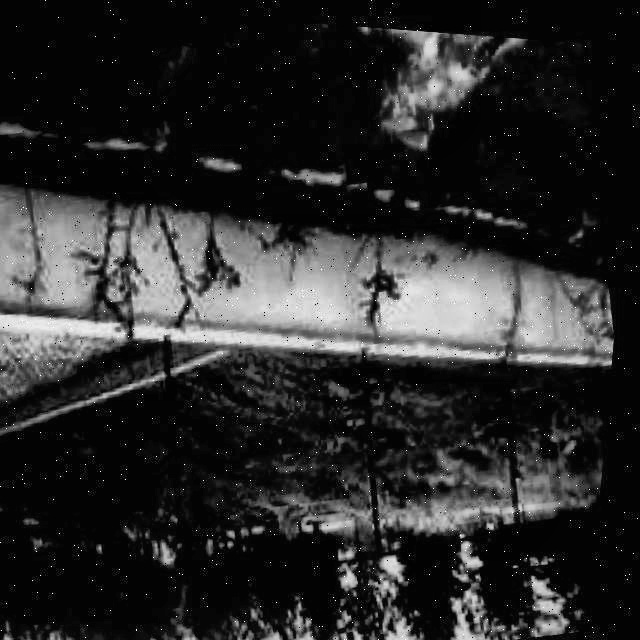Fire: (364, 22, 527, 135)
